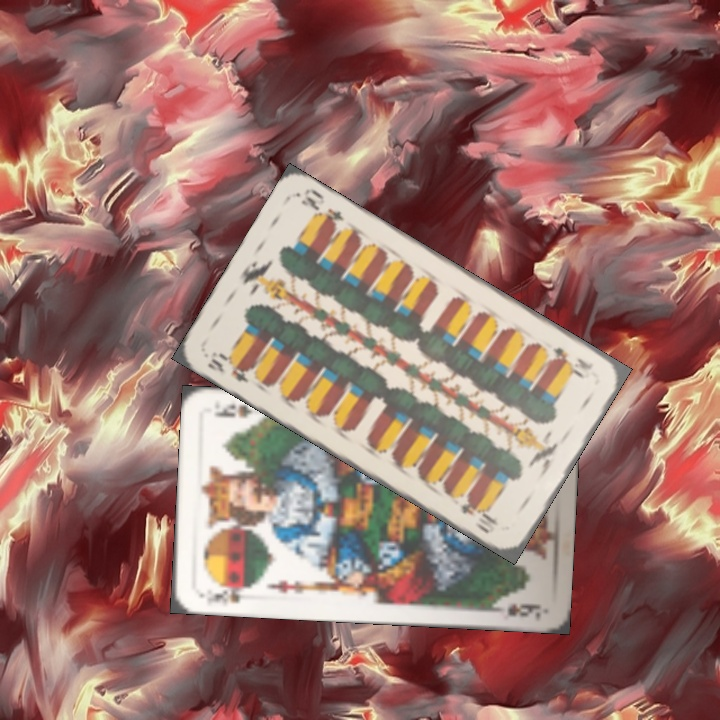E10: (203, 347, 255, 386), (548, 343, 596, 379)
SK: (208, 580, 254, 606)
